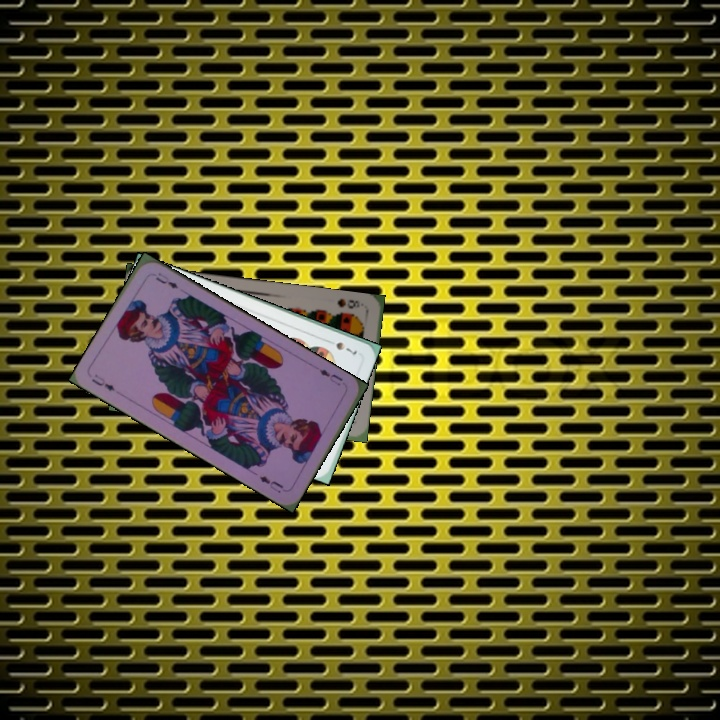EU: (87, 370, 117, 394), (315, 365, 345, 388)
S7: (322, 336, 359, 358)
S8: (333, 294, 362, 311)
